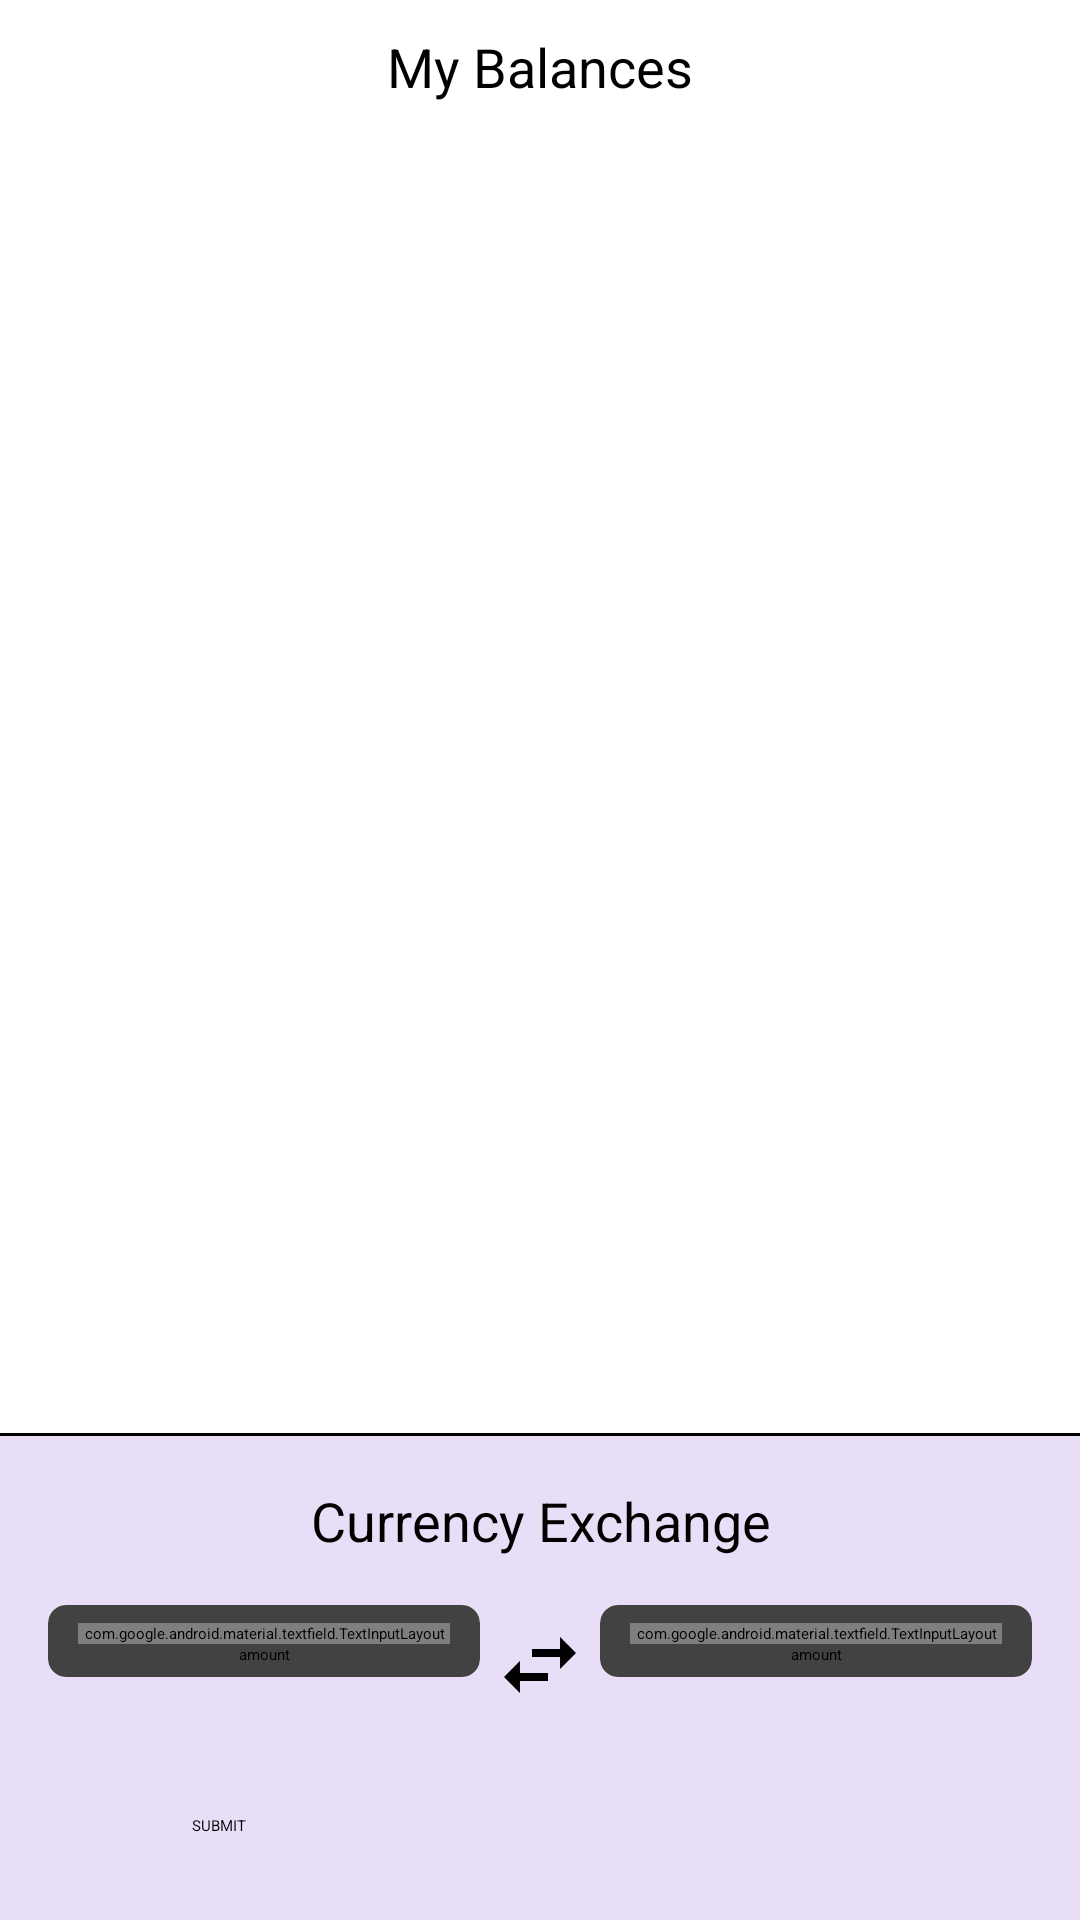

Where to tap for icons on this 1080 × 1920 app screen, as (x=x, y=y):
swap horizontal: (x=540, y=1665)
